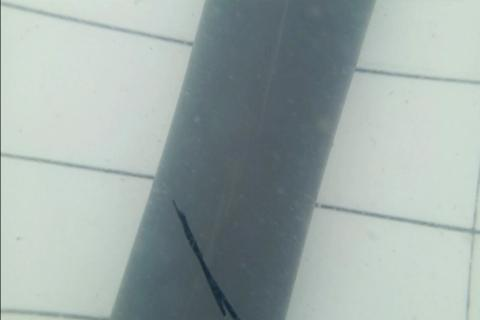keretakan: (171, 198, 242, 320)
